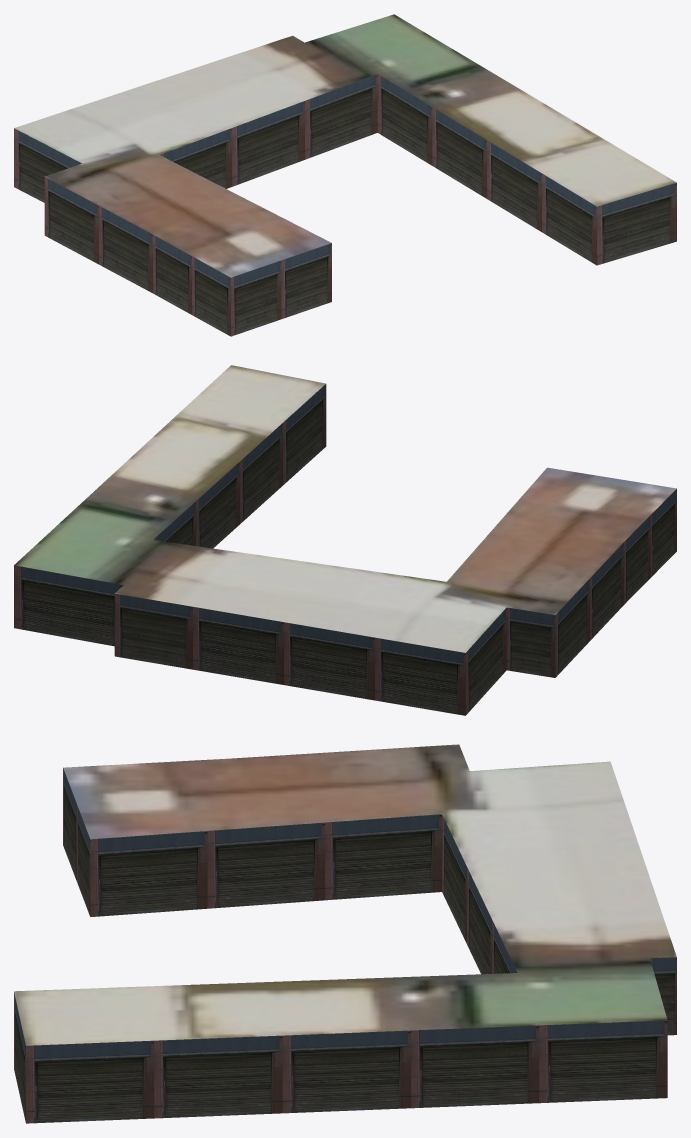
The model's file is T_1SXHS4NV7L.dae.
The picture shows the model from 3 angles, top to bottom: view 1: azimuth 30°, elevation 25°; view 2: azimuth 150°, elevation 25°; view 3: azimuth 270°, elevation 25°; orthographic projection. The views are drawn at different scales.
Visible parts, largest first — view 1: SketchUp (×8); view 2: SketchUp (×9); view 3: SketchUp (×7).
Boxes of the visible parts, <box> form: SketchUp (×8): <box>14,14,676,336</box>; SketchUp (×9): <box>14,365,676,715</box>; SketchUp (×7): <box>14,744,676,1123</box>.
Bounding box in the file's own units: 27.65 × 25.71 × 3.33.
2 materials, 2 textured.
